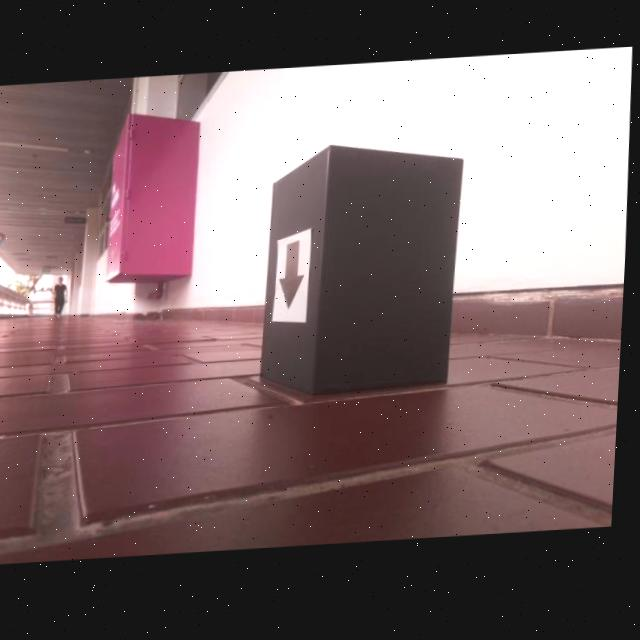DOWN: (280, 242, 308, 313)
